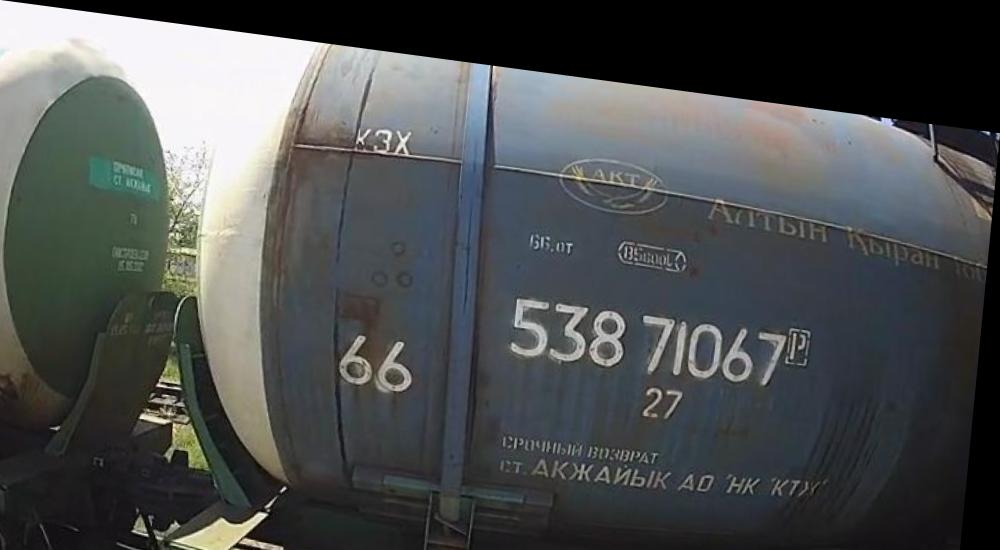Wagon-number: (511, 276, 797, 376)
